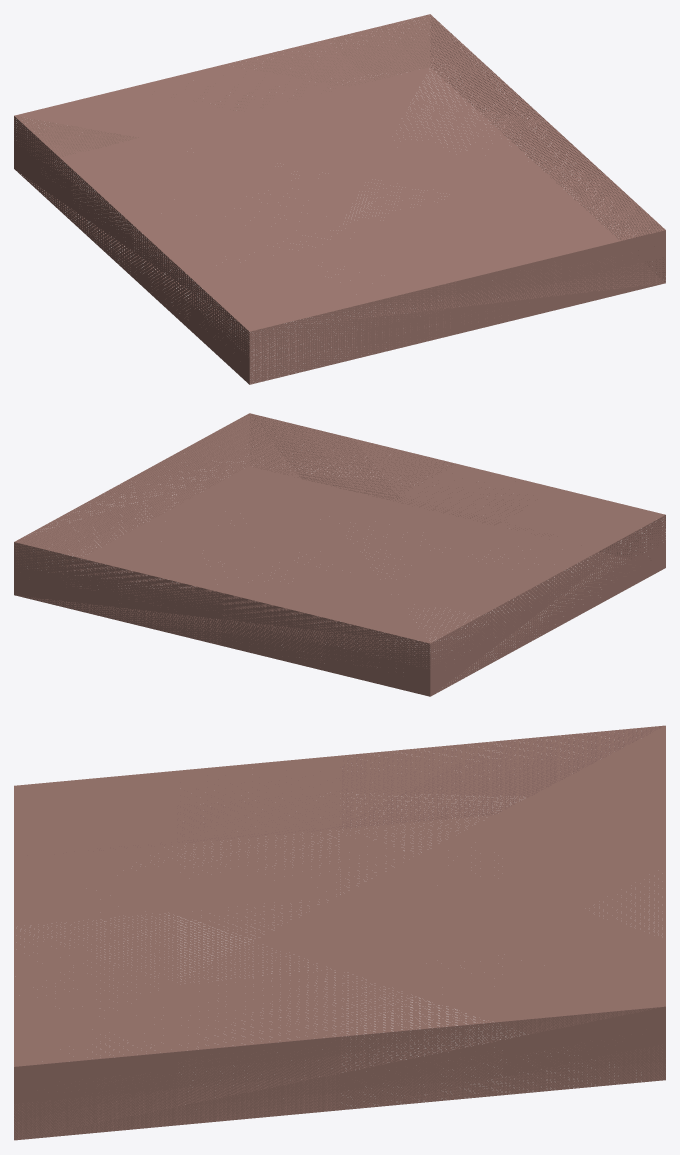
The model's file is SW_ENV_EL_Station_Roof_A_03_Collision.fbx.
3 renders of one model, top to bottom at view 1: azimuth 30°, elevation 25°; view 2: azimuth 150°, elevation 25°; view 3: azimuth 270°, elevation 25°, orthographic. The views are drawn at different scales.
Visible parts, largest first — view 1: SW_ENV_EL_Station_Roof_A_03_Collision; view 2: SW_ENV_EL_Station_Roof_A_03_Collision; view 3: SW_ENV_EL_Station_Roof_A_03_Collision.
Boxes of the visible parts, left/top/right/bottom form: SW_ENV_EL_Station_Roof_A_03_Collision: left=14, top=14, right=665, bottom=384; SW_ENV_EL_Station_Roof_A_03_Collision: left=14, top=413, right=665, bottom=696; SW_ENV_EL_Station_Roof_A_03_Collision: left=14, top=725, right=665, bottom=1140.
Size of the model in its own units: 500 by 111 by 490.
